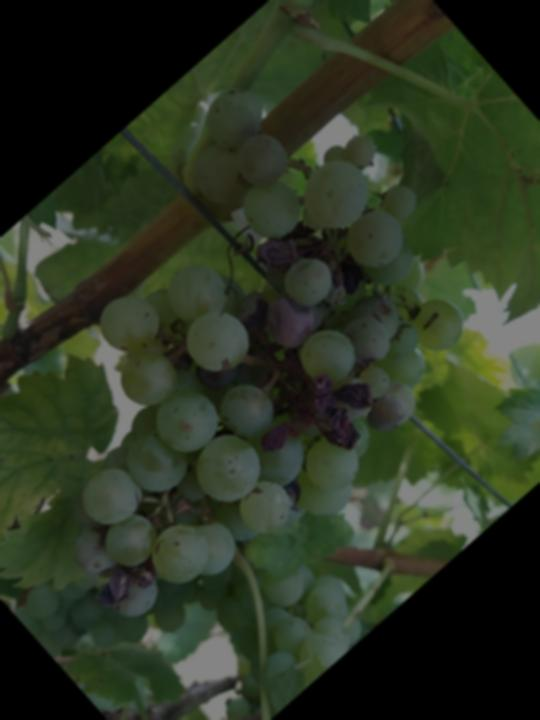grape: (0, 35, 540, 676)
